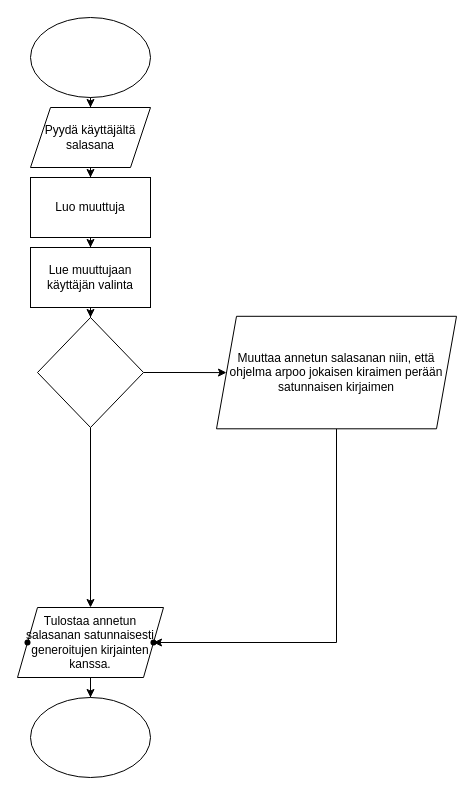
Image size: 474x795. Some labels were removed from this diagram. The shapes that lost their labels are listed below. From the top down, each one's centre as x and y in pixels, then its label:
At point (90, 57): "Aloitus HTML-sivu".
At point (90, 372): "Syötä salasana".
At point (90, 737): "The End".
